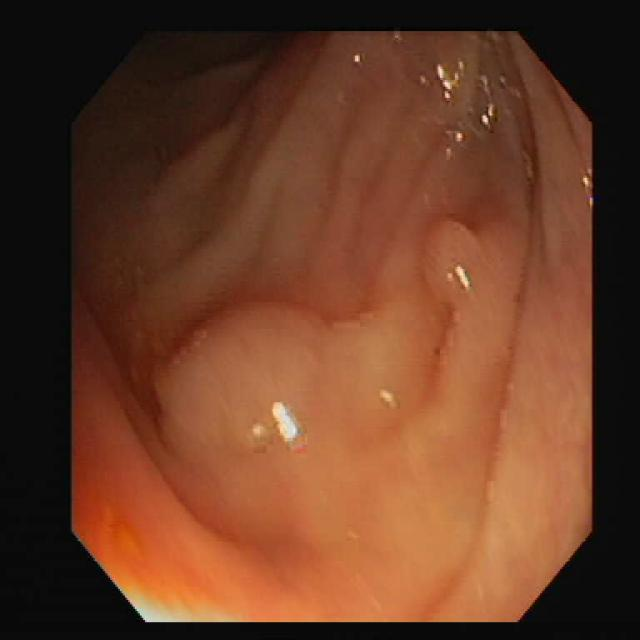tumor: (157, 302, 345, 440), (420, 220, 473, 298)
